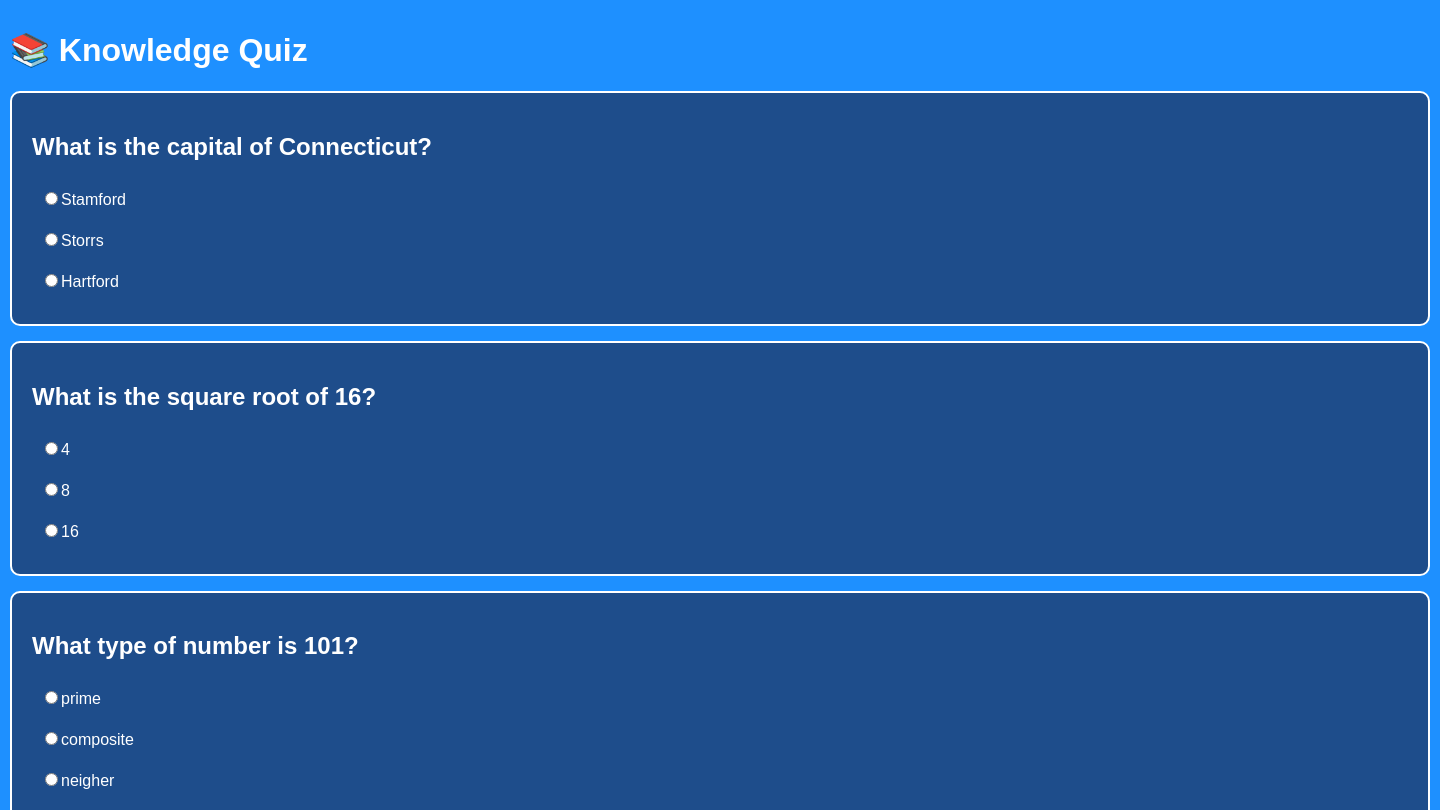
Test: Quiz Component › shows try again button after submission
The image size is (1440, 810).
// Answer all questions
Click the radio button labelled "Hartford".
click(52, 280)  # box x1=45 y1=274 x2=58 y2=287
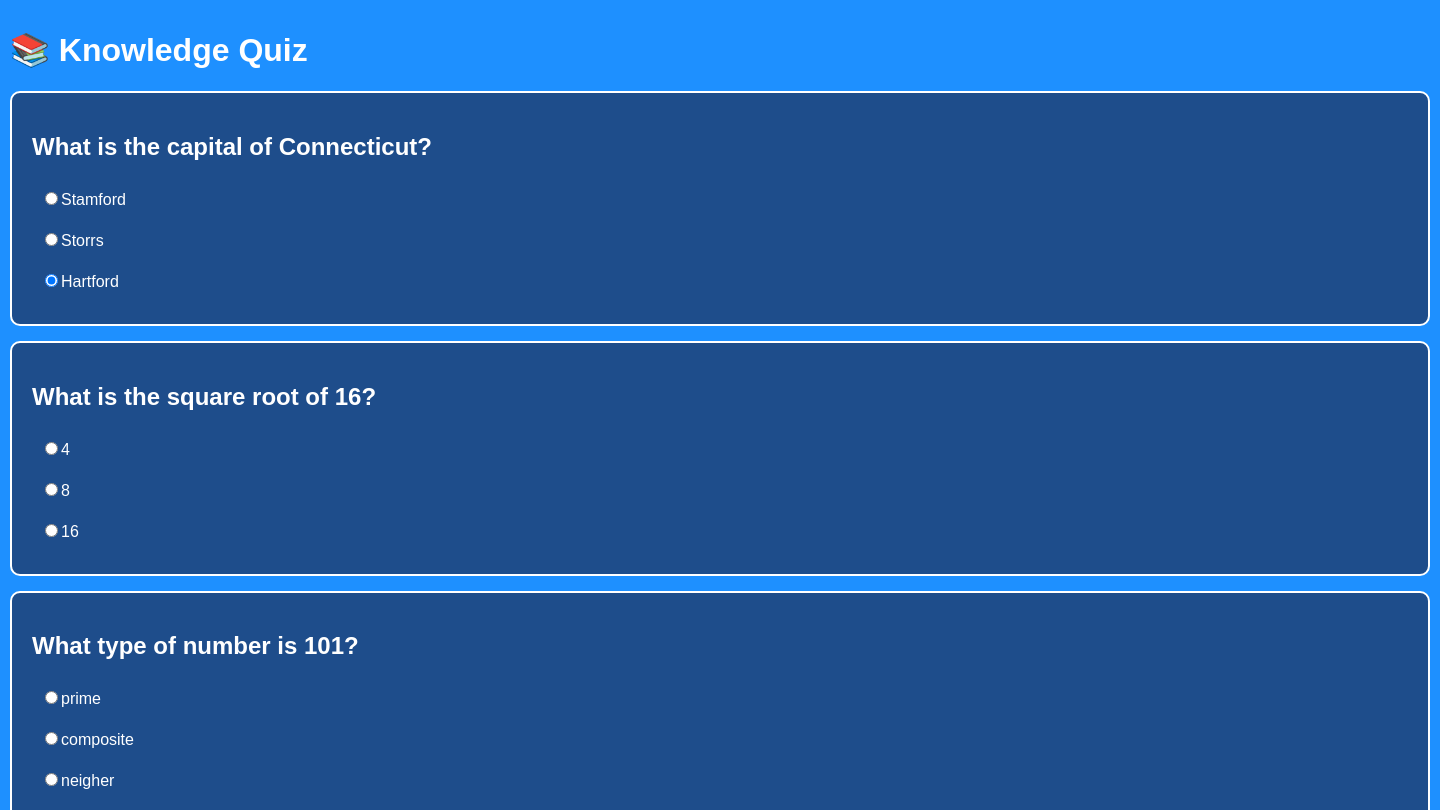
Click the radio button labelled "4".
click(52, 448)  # box x1=45 y1=442 x2=58 y2=454
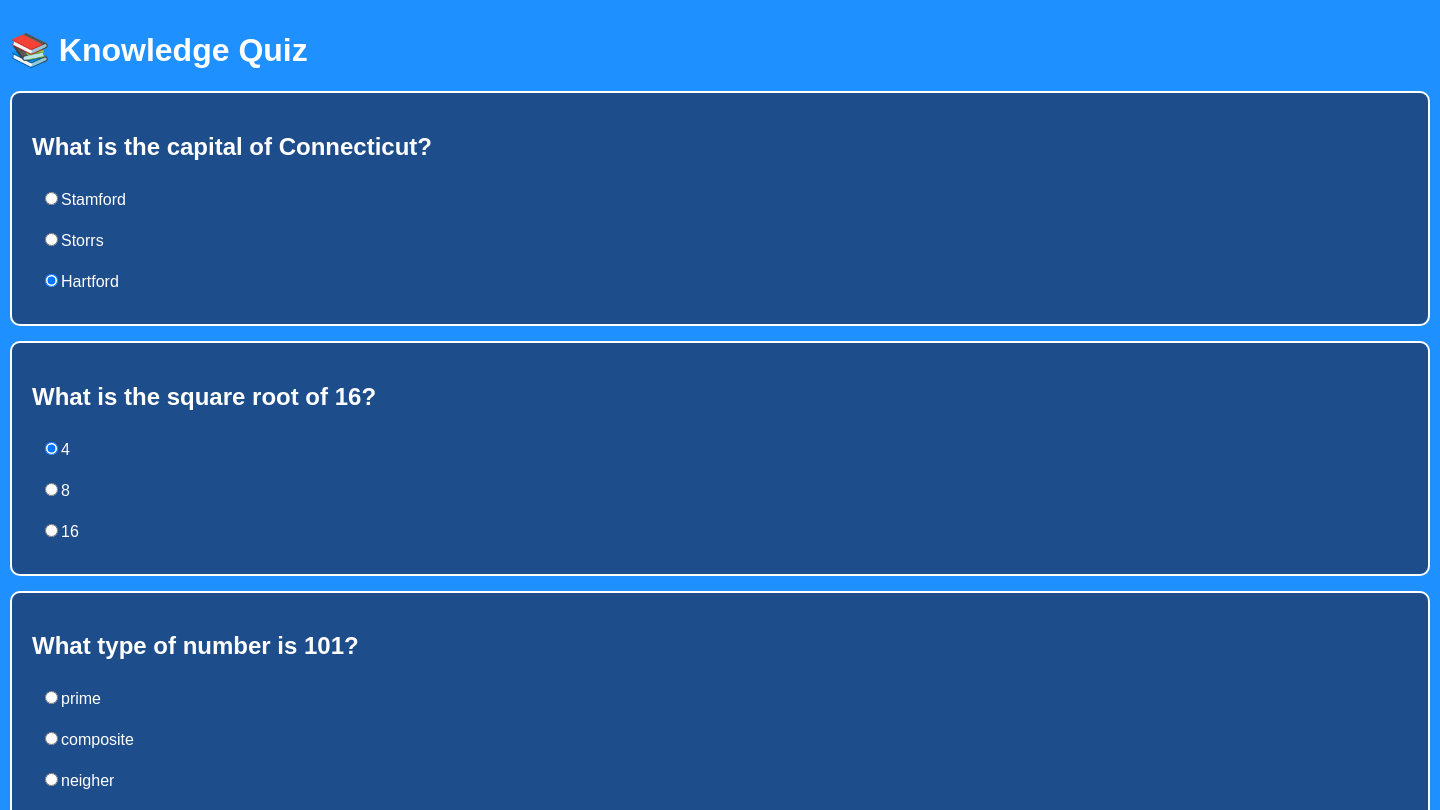
Click the radio button labelled "prime".
click(52, 698)  # box x1=45 y1=691 x2=58 y2=704
(page scrolled)
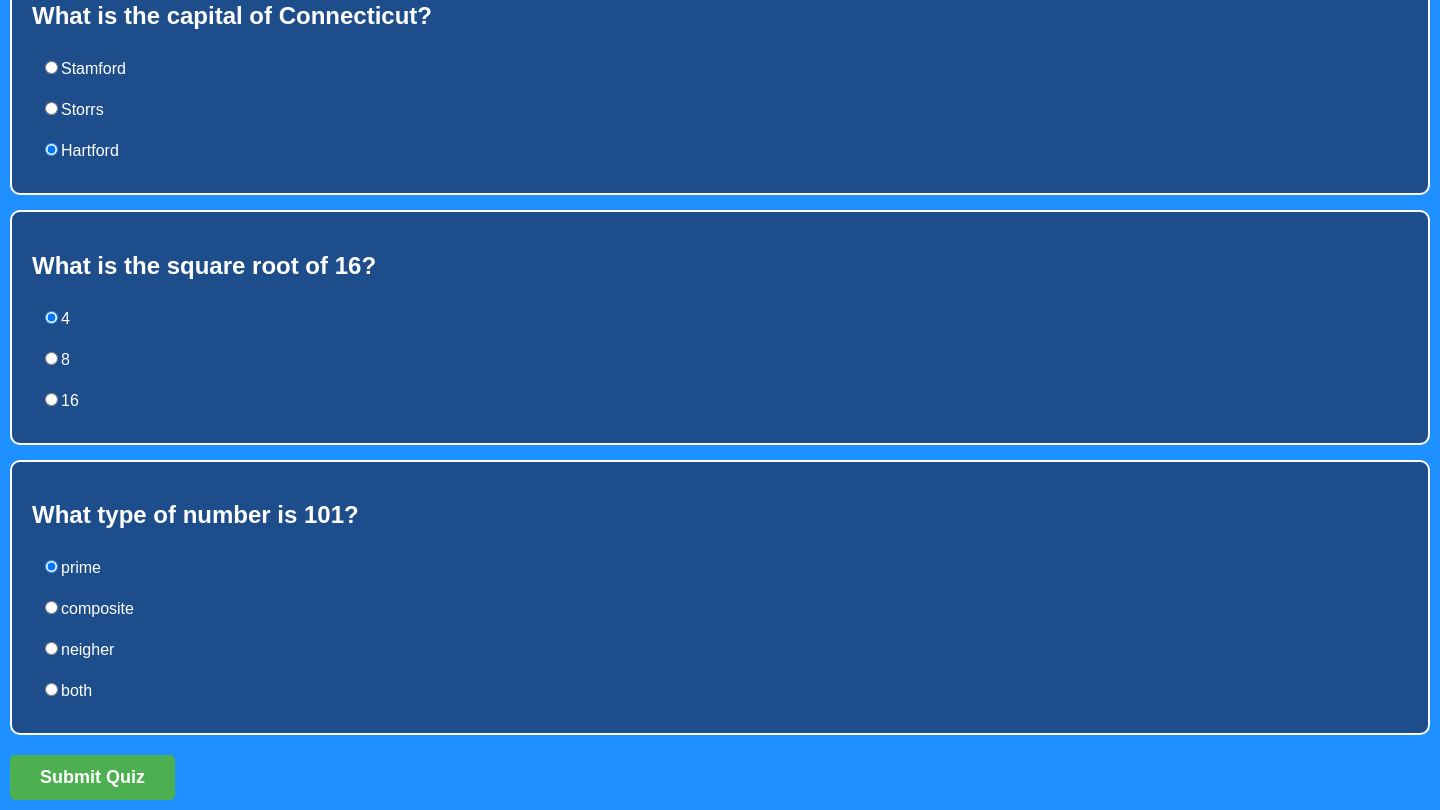
Click the button "Submit Quiz".
click(92, 778)  # box x1=10 y1=755 x2=175 y2=800
(page scrolled)
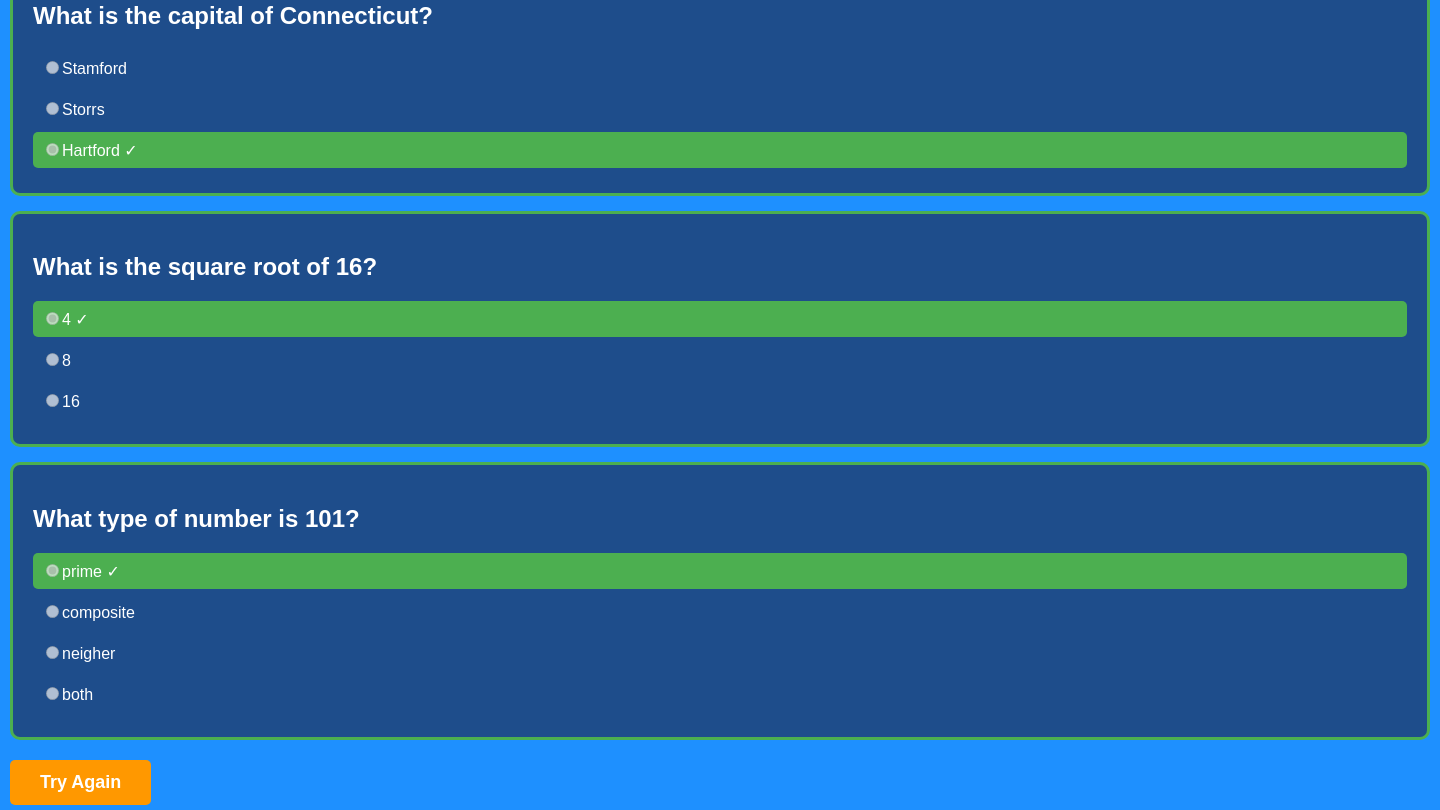
Expected: the button "Try Again" is shown, x1=10 y1=760 x2=151 y2=805
